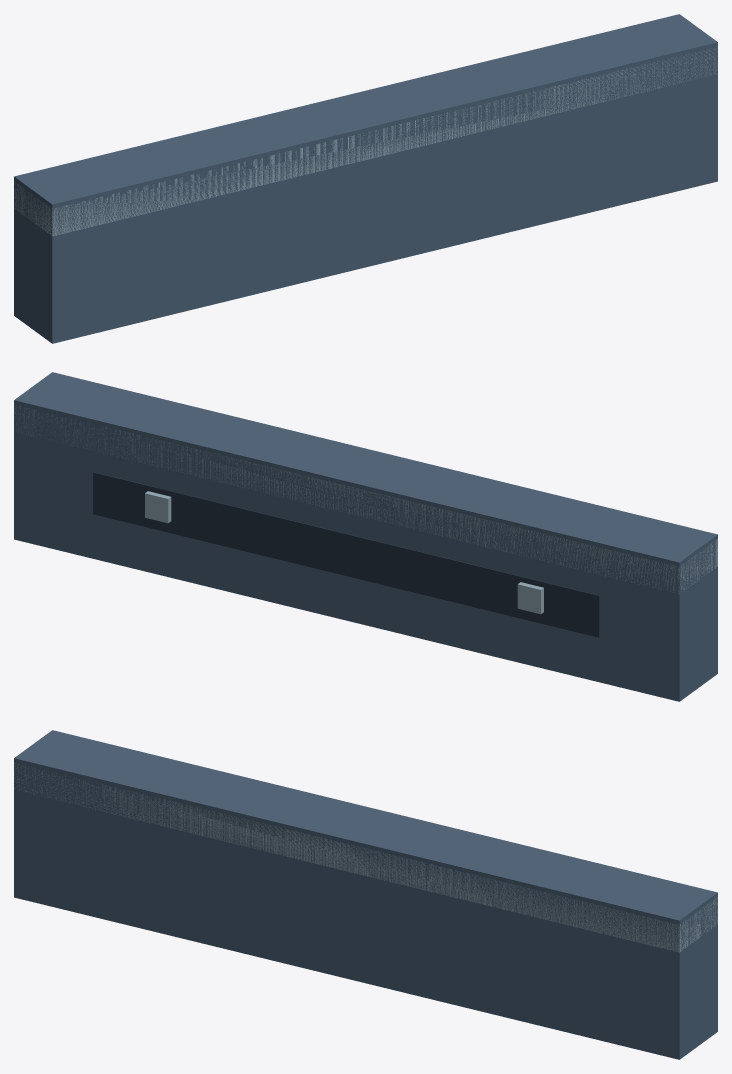
File: elevator_deck_fascia.glb
The picture shows the model from 3 angles, top to bottom: view 1: azimuth 30°, elevation 25°; view 2: azimuth 150°, elevation 25°; view 3: azimuth 330°, elevation 25°; orthographic projection.
Visible parts, largest first — view 1: elevator_deck_fascia; view 2: elevator_deck_fascia; view 3: elevator_deck_fascia.
Boxes of the visible parts, box(x1,y1,x2,y2) form: elevator_deck_fascia: box(14, 14, 717, 343); elevator_deck_fascia: box(14, 372, 717, 701); elevator_deck_fascia: box(14, 730, 717, 1059).
Bounding box in the file's own units: 2 × 0.4 × 0.22.
